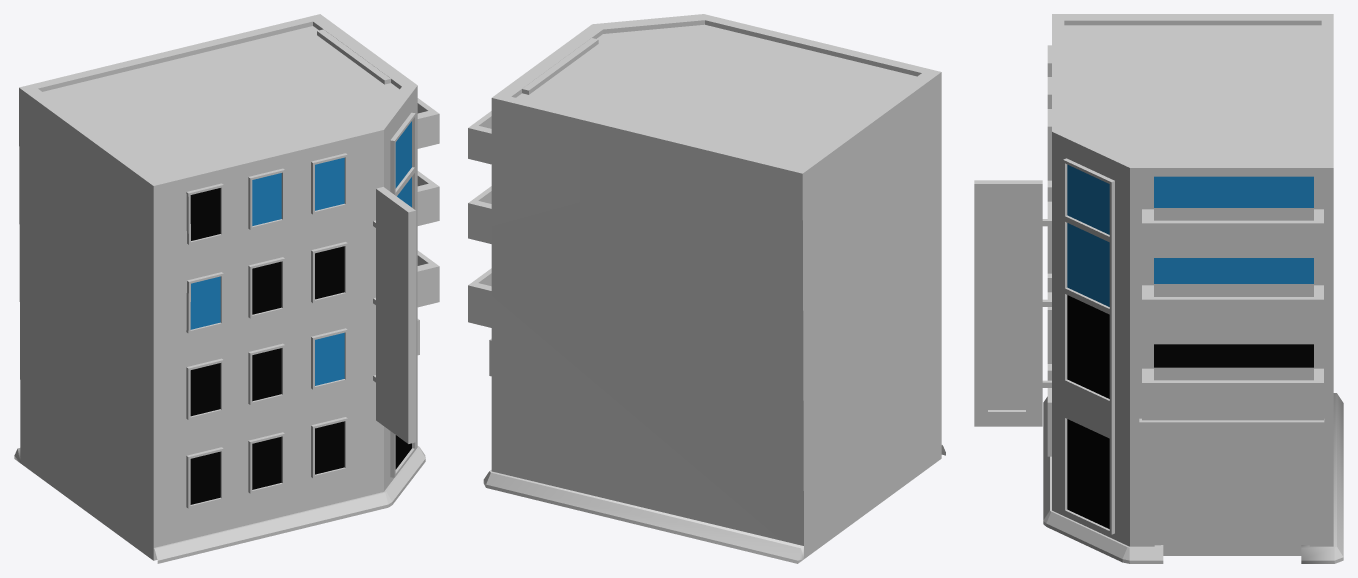
File: edif_esquina.fbx
3 views of the same model, side by side, from view 1: azimuth 30°, elevation 25°; view 2: azimuth 150°, elevation 25°; view 3: azimuth 270°, elevation 25° (orthographic). The views are drawn at different scales.
Visible parts, largest first — view 1: Obj_Edif1_base, Obj_Edif1_Cartel; view 2: Obj_Edif1_base; view 3: Obj_Edif1_base, Obj_Edif1_Cartel.
Boxes of the visible parts, <box> form: Obj_Edif1_base: <box>14,14,439,563</box>; Obj_Edif1_Cartel: <box>373,187,415,443</box>; Obj_Edif1_base: <box>468,14,945,563</box>; Obj_Edif1_base: <box>1043,14,1343,563</box>; Obj_Edif1_Cartel: <box>974,180,1051,426</box>.
Bounding box in the file's own units: 31.06 × 33.82 × 28.83.
